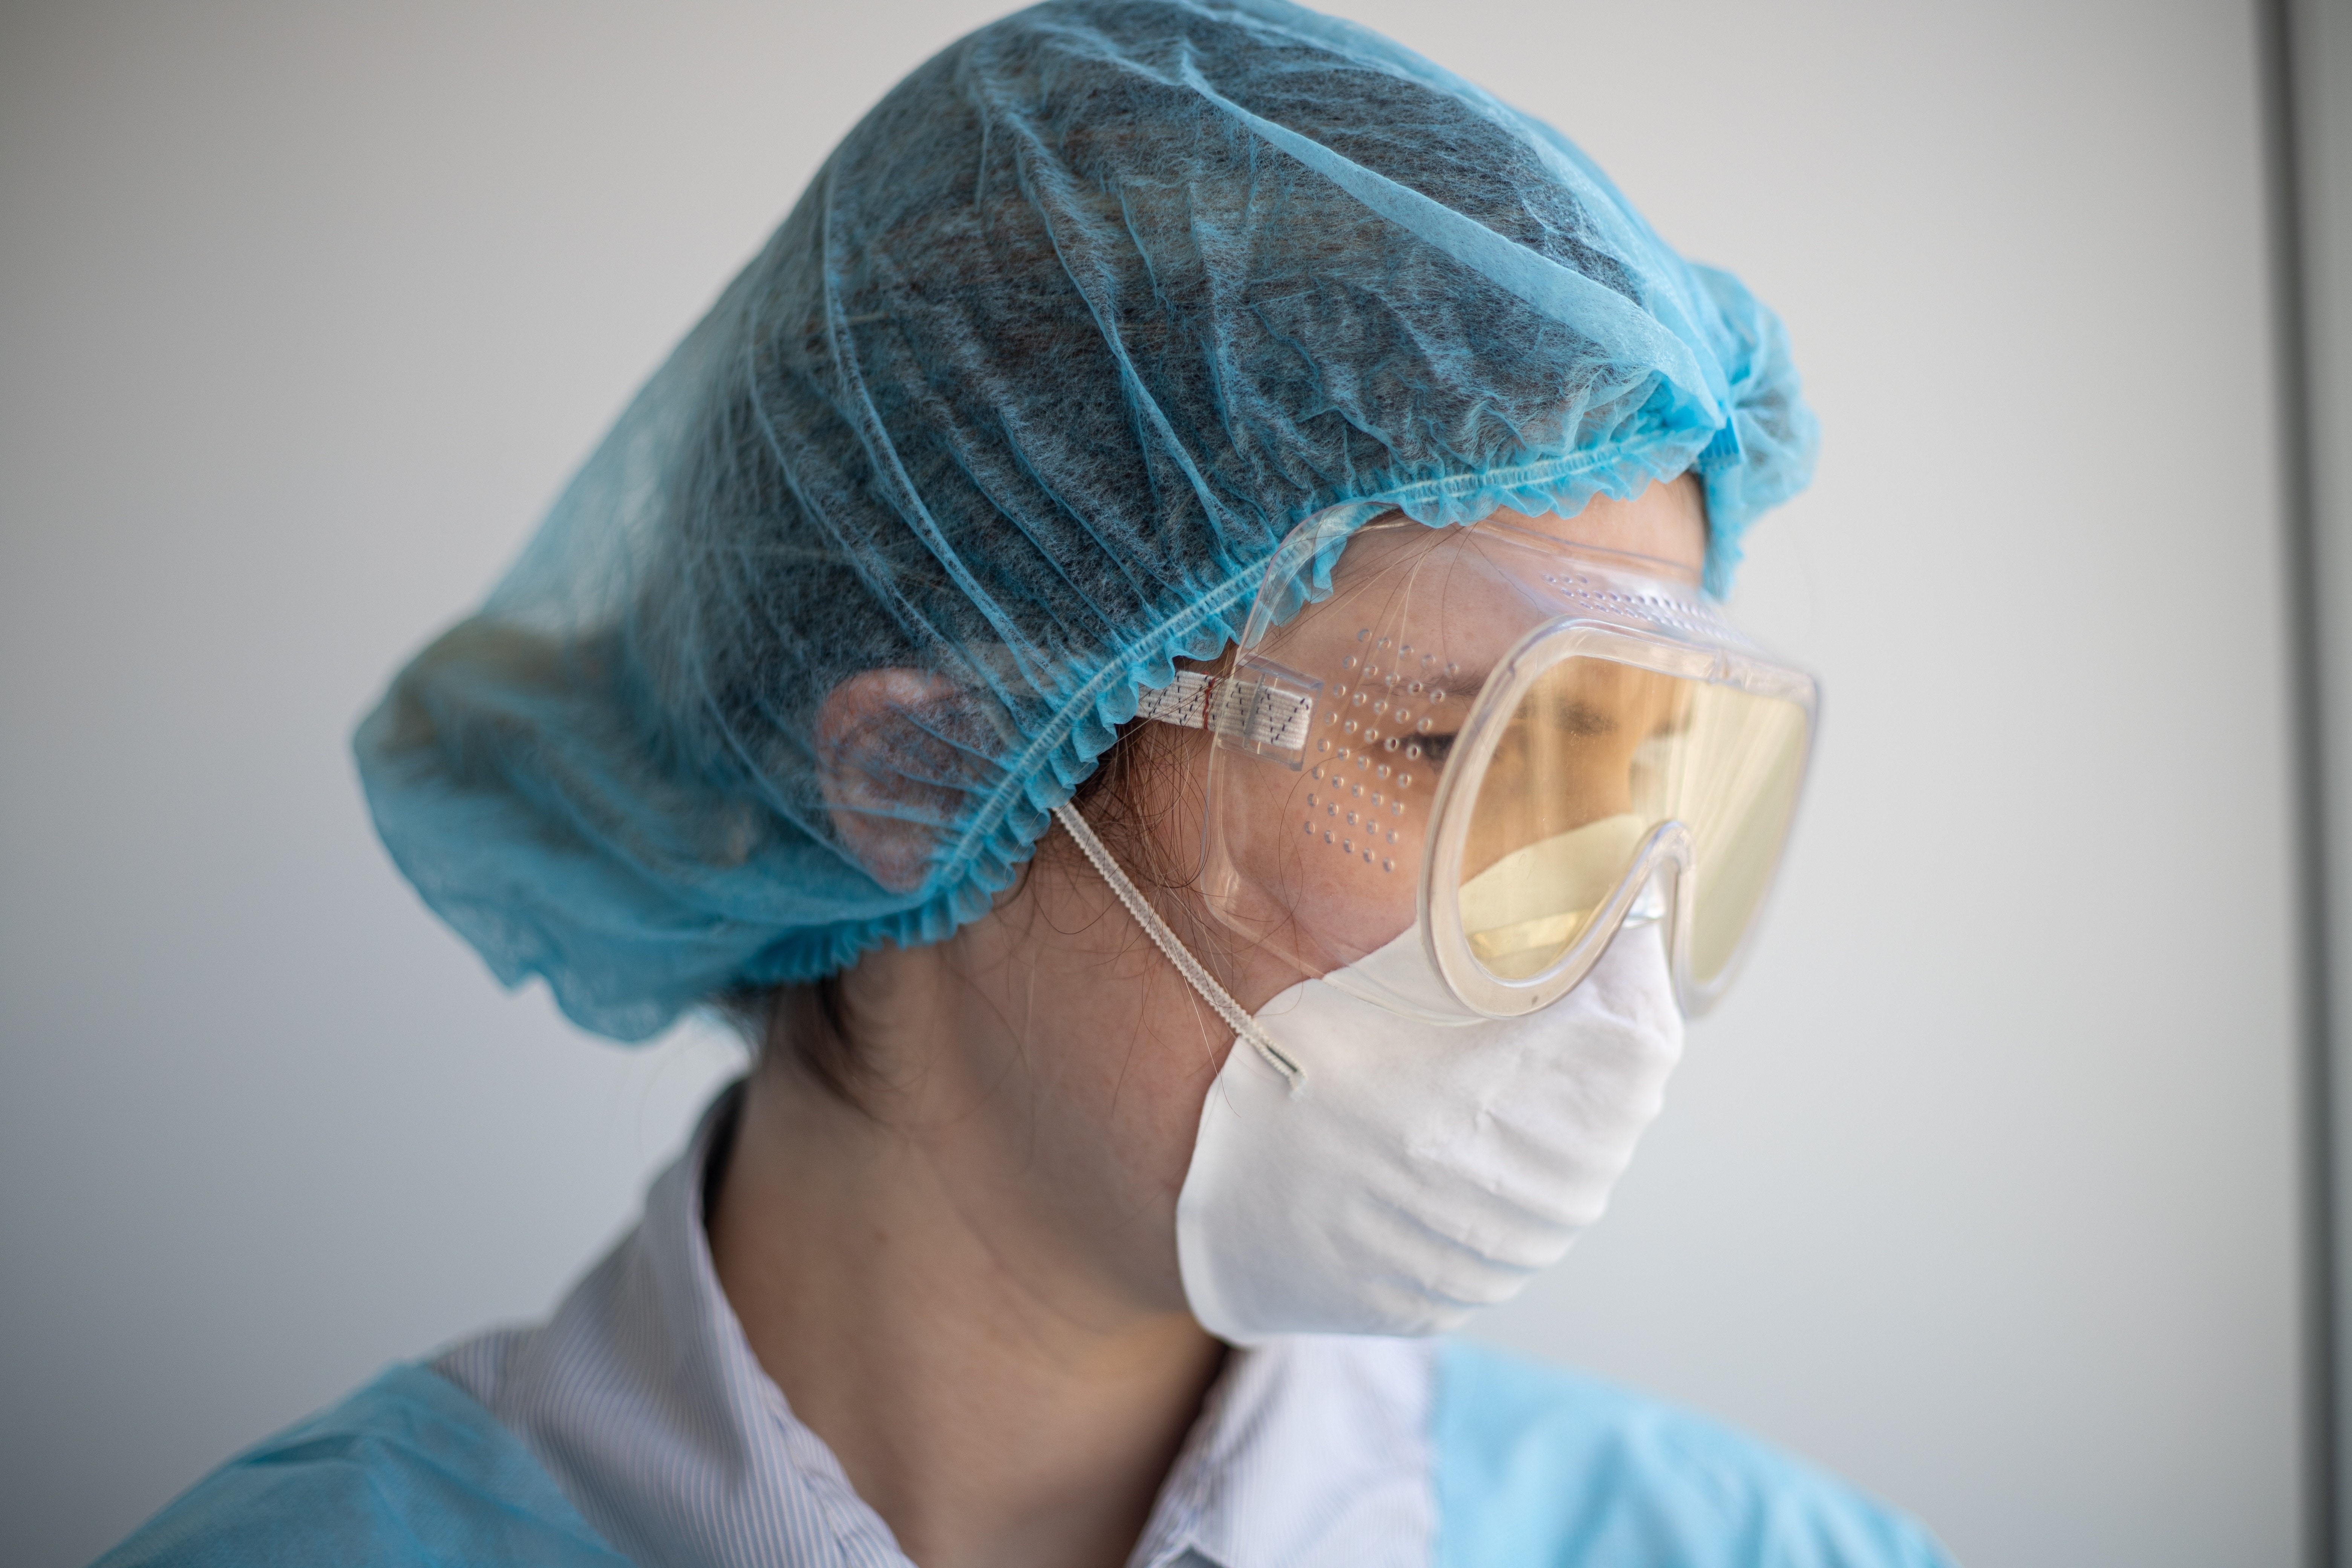face_with_mask: (813, 341, 1851, 1389)
